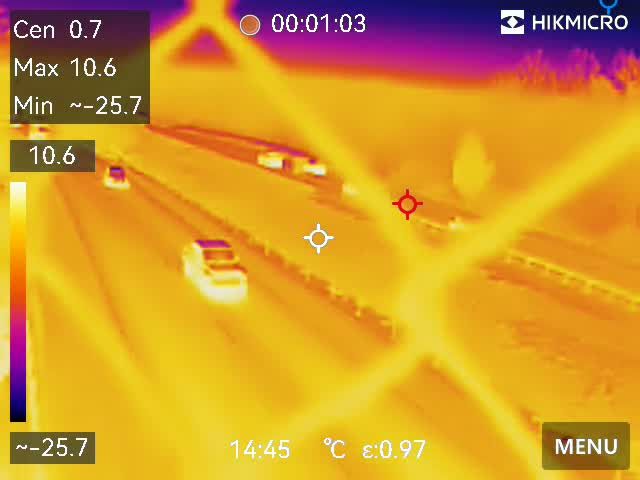vehicle: (179, 237, 247, 295), (102, 163, 133, 192), (254, 149, 294, 171)
